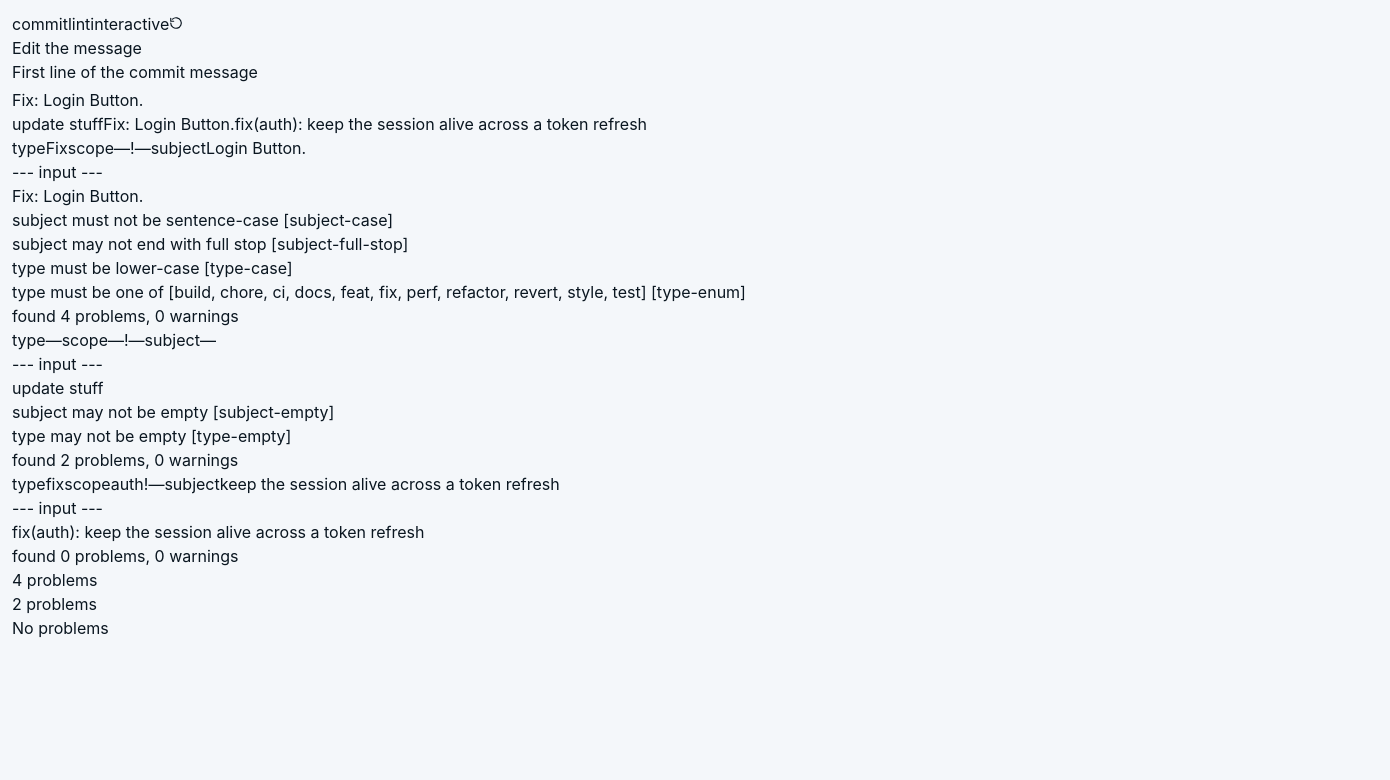
CommitLint › checks the field as it is typed
This screenshot has width=1390, height=780.
Replace the text in the field labelled "First line of the commit message" with "feat(api)!: drop the v1 endpoints" at (695, 100), box [12,88,1378,112]
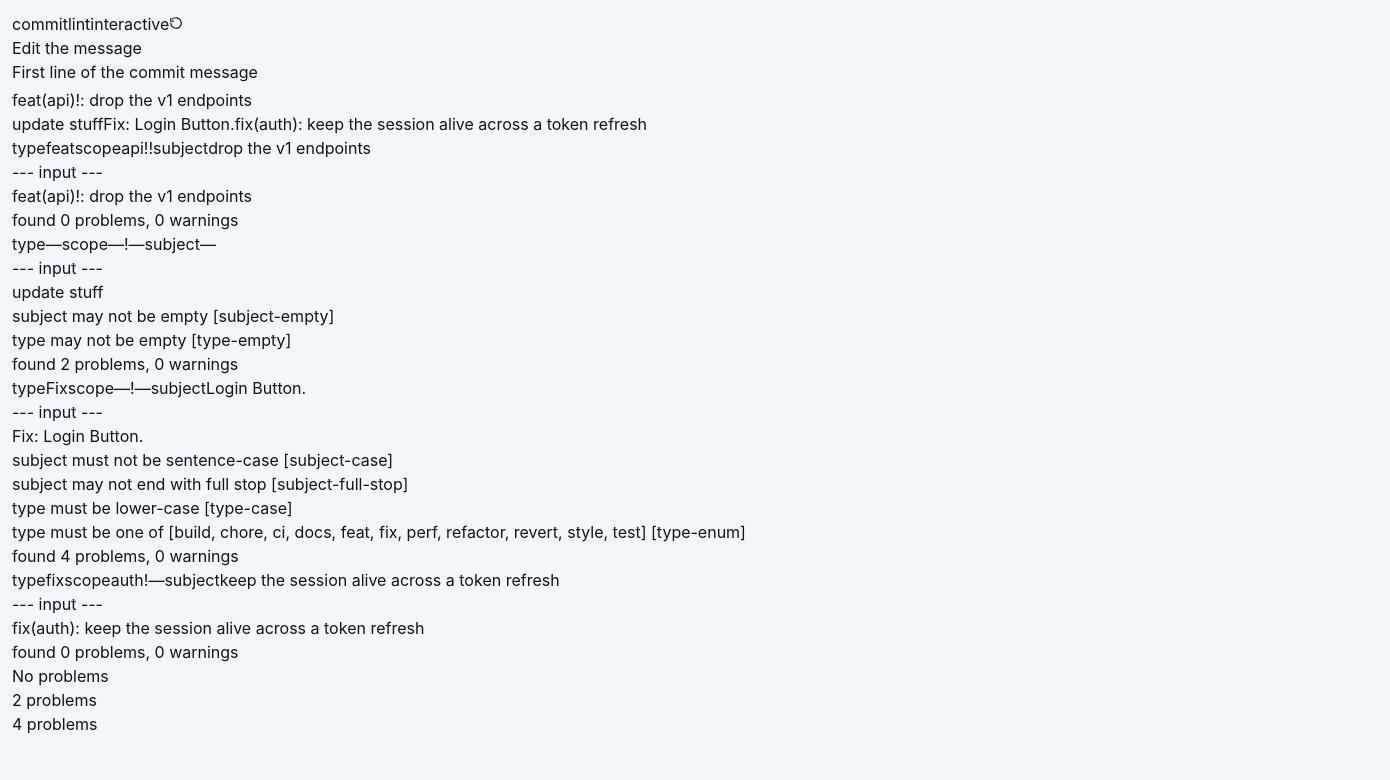
Check: the text "No problems" is shown, box [12,666,109,686]
